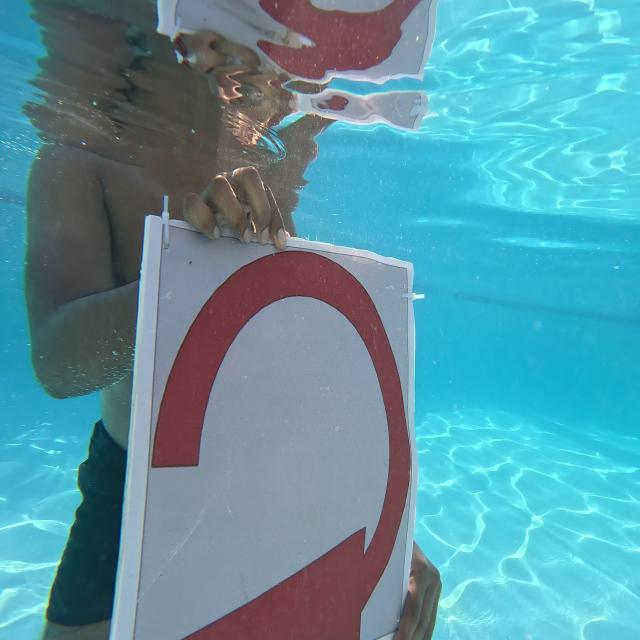red_side: (124, 187, 419, 640)
